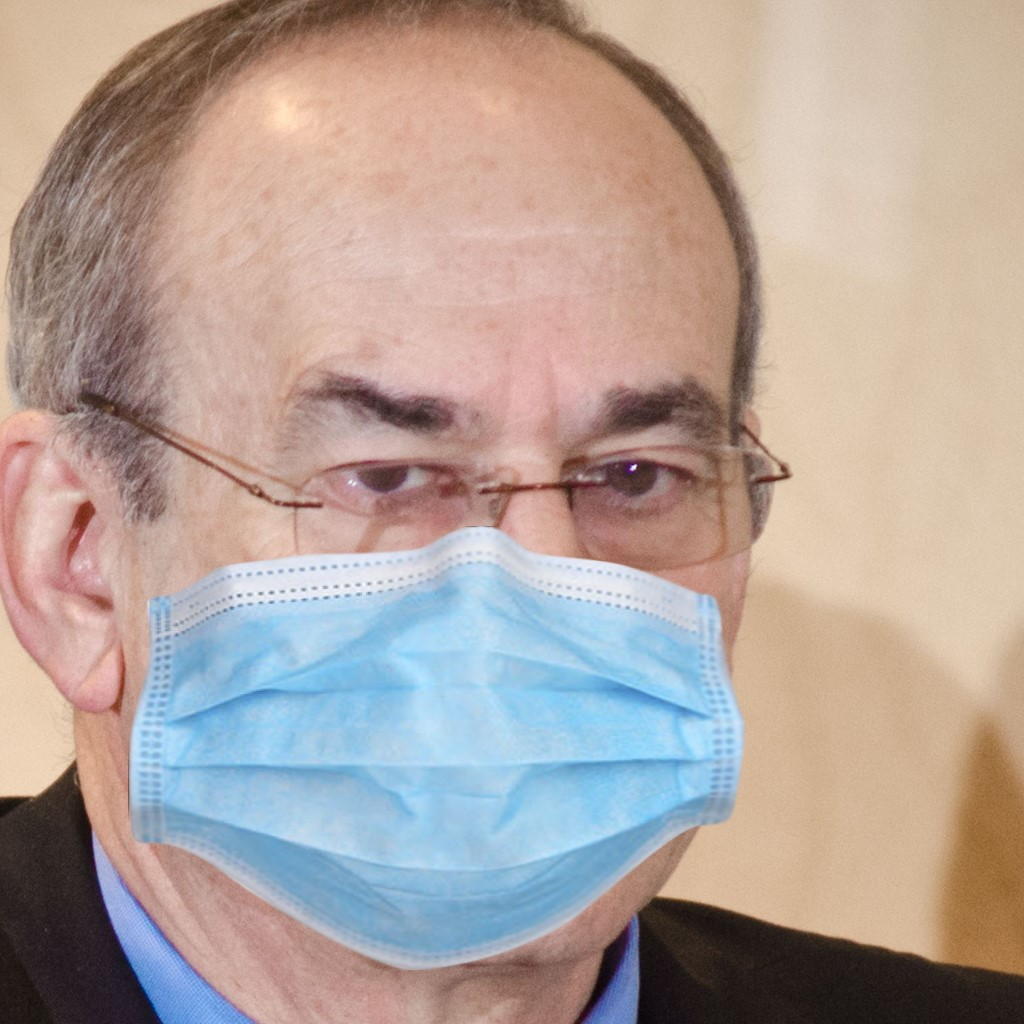con_mascara: (73, 56, 739, 967)
